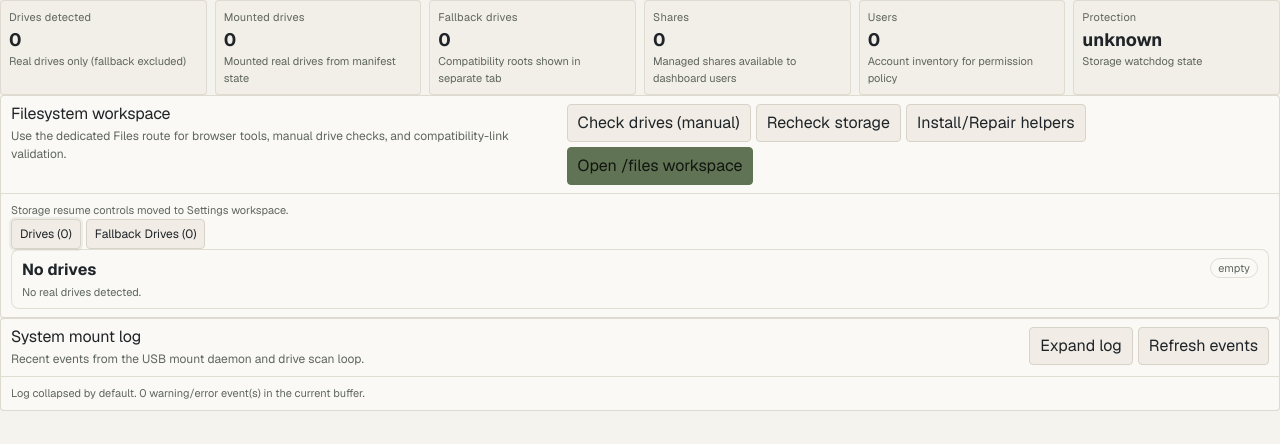
WorkspaceViewport › shows helper repair action in files workspace when helpers are unavailable
Click the button "Check drives (manual)": (659, 123) [567,104,751,142]
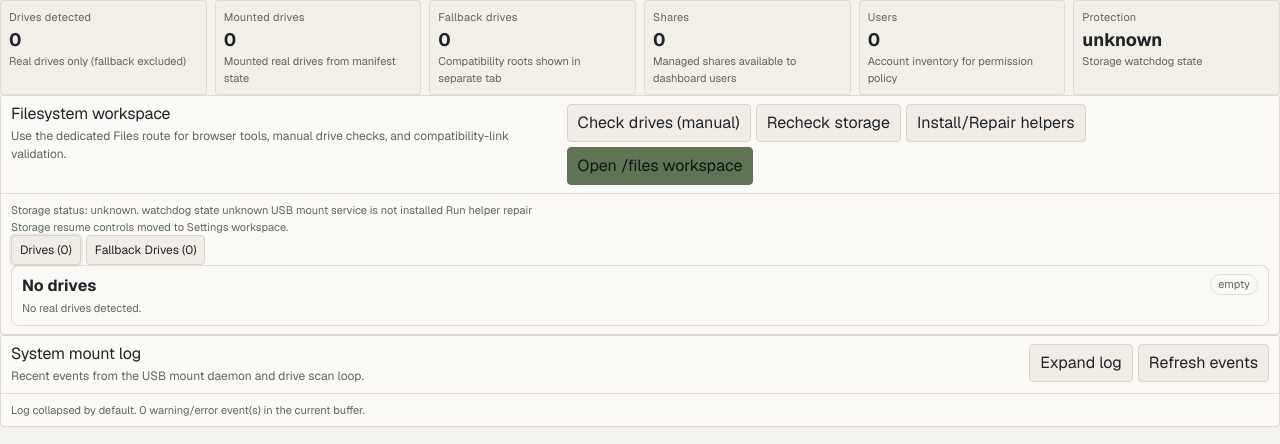
Result: the text "Storage status: unknown" is shown at [11,203,532,217]
Click the button "Install/Repair helpers": (996, 123) [906,104,1086,142]
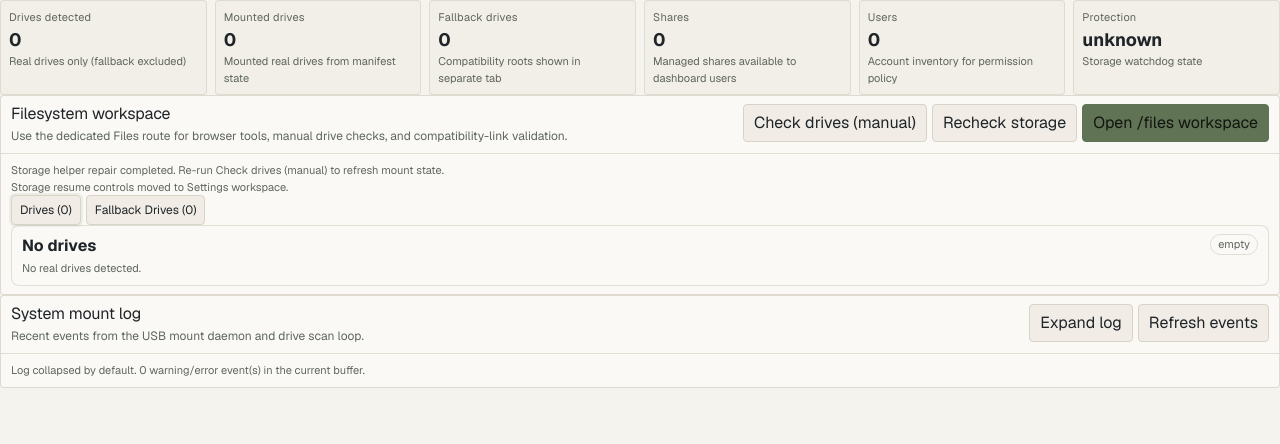
Result: the text "Storage helper repair completed" is shown at [11,164,444,178]
